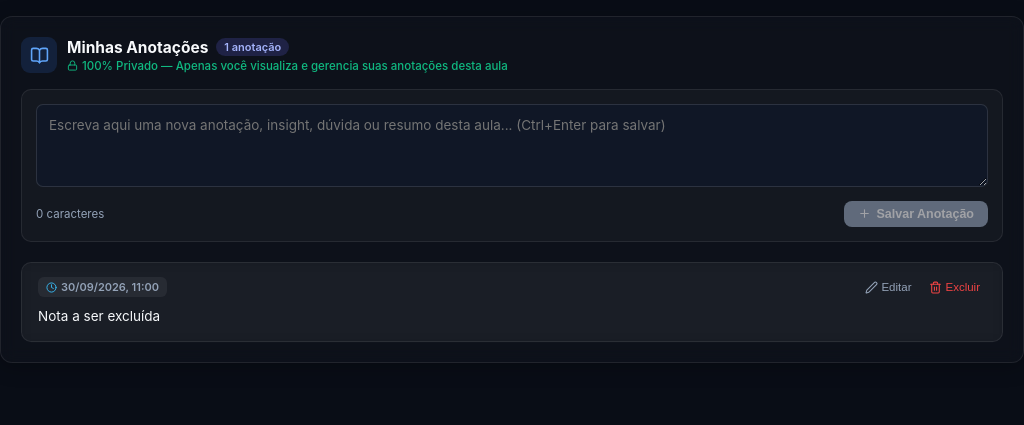
Test: LessonNotes Component & Badges › opens confirmation modal and deletes a note badge
Expected: the text "Nota a ser excluída" is shown, [38,308,160,324]
Note: Clica no botão de excluir
Click the button with test id "delete-note-btn-5": (955, 287) [924,277,986,298]
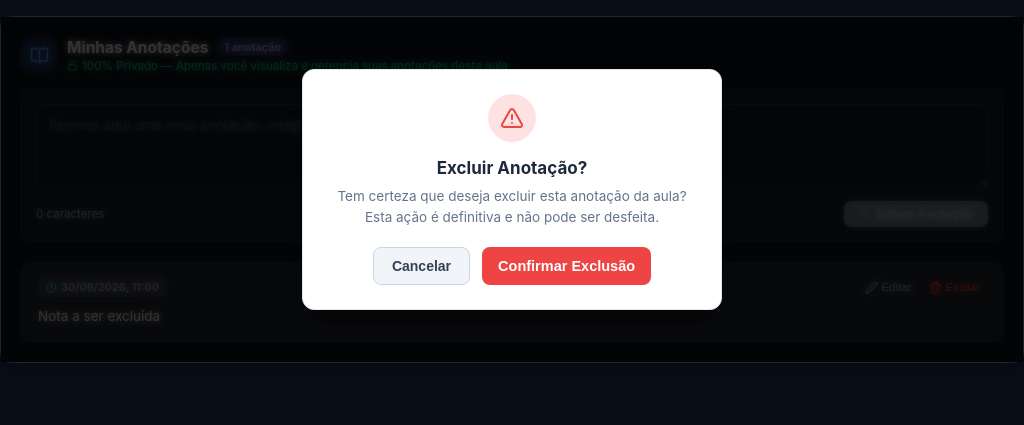
Now the element with test id "file-delete-confirm-modal" is shown
Now the heading "Excluir Anotação?" is shown, box [437,158,587,178]
Note: Testa cancelamento primeiro
Click the button with test id "cancel-file-delete-btn": (422, 266) [373,247,470,285]
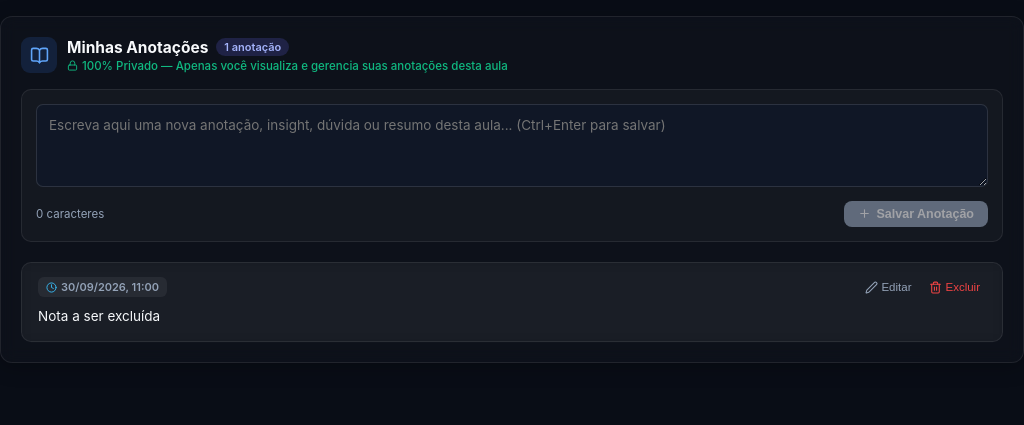
Expected: the text "Nota a ser excluída" is shown, [38,308,160,324]
Now the element with test id "file-delete-confirm-modal" is gone
Note: Abre novamente e confirma exclusão
Click the button with test id "delete-note-btn-5": (955, 287) [924,277,986,298]
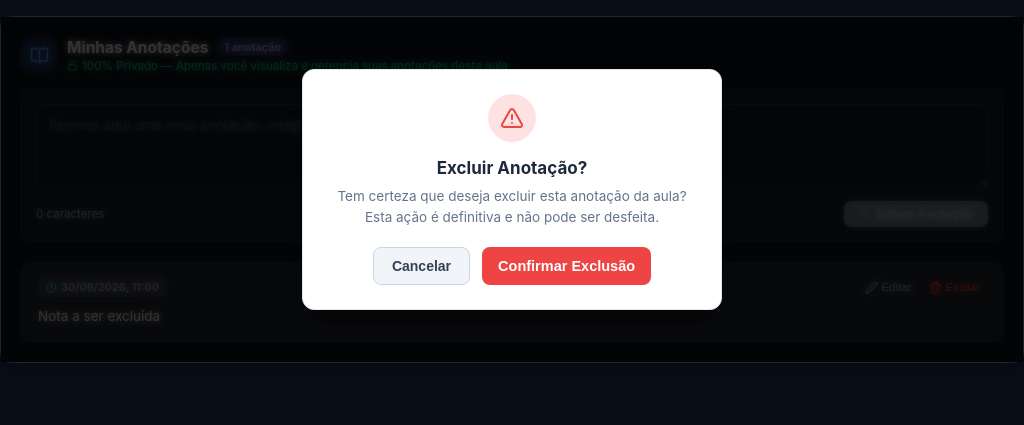
Click the button with test id "confirm-file-delete-btn": (567, 266) [482,247,651,285]
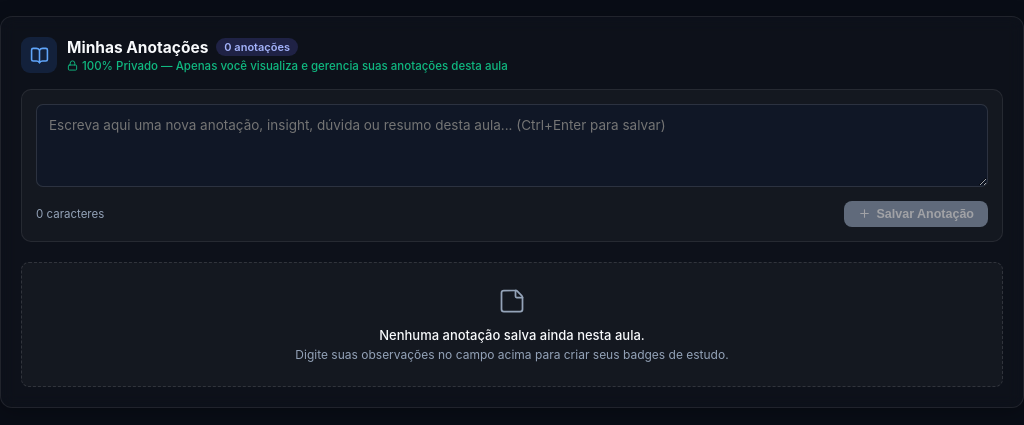
Now the text "Nota a ser excluída" is gone
